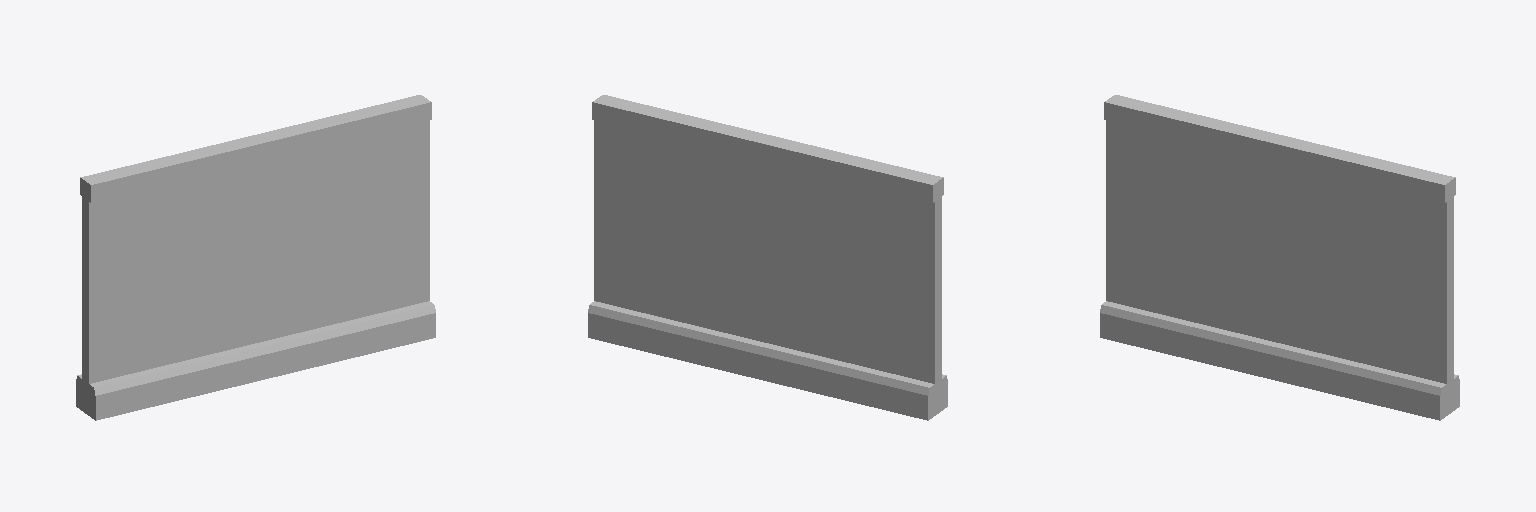
File: stoneWall.obj
3 renders of one model, left to right at view 1: azimuth 30°, elevation 25°; view 2: azimuth 150°, elevation 25°; view 3: azimuth 330°, elevation 25°, orthographic.
Parts seen in each view (by area): view 1: stoneWall; view 2: stoneWall; view 3: stoneWall.
Part boxes in pixels (left/top/right/bottom): stoneWall: left=76, top=95, right=435, bottom=420; stoneWall: left=588, top=95, right=947, bottom=420; stoneWall: left=1100, top=95, right=1459, bottom=420.
Bounding box in the file's own units: 1 × 0.6519 × 0.1.